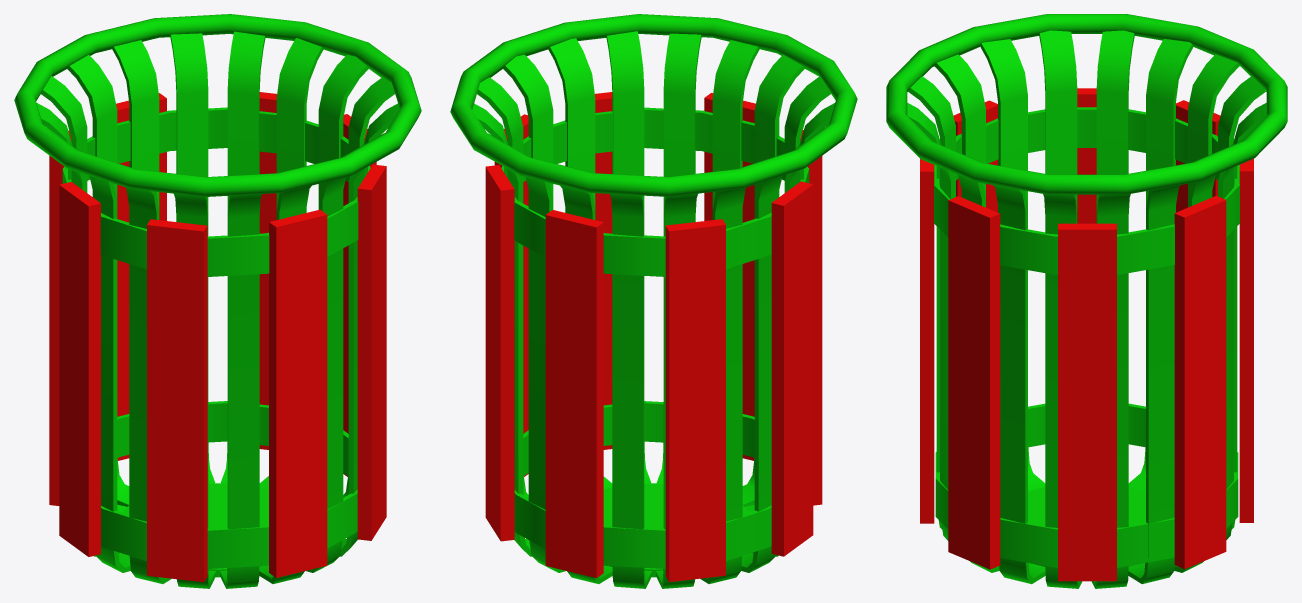
Rendered from Bin.FBX.
The picture shows the model from 3 angles, left to right: view 1: azimuth 30°, elevation 25°; view 2: azimuth 150°, elevation 25°; view 3: azimuth 270°, elevation 25°; orthographic projection.
Visible parts, largest first — view 1: Bin; view 2: Bin; view 3: Bin.
Boxes of the visible parts, bbox=[...] form: Bin: bbox=[14, 14, 421, 588]; Bin: bbox=[450, 14, 857, 588]; Bin: bbox=[886, 14, 1287, 588].
Size of the model in its own units: 0.531 by 0.6414 by 0.531.
